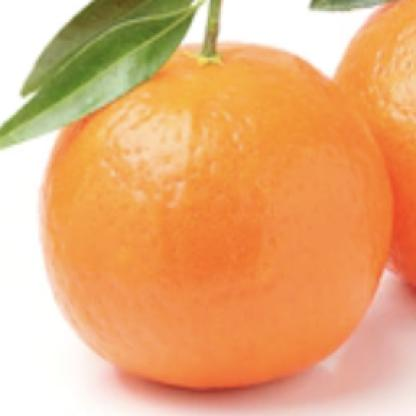fresh: (37, 39, 393, 392)
